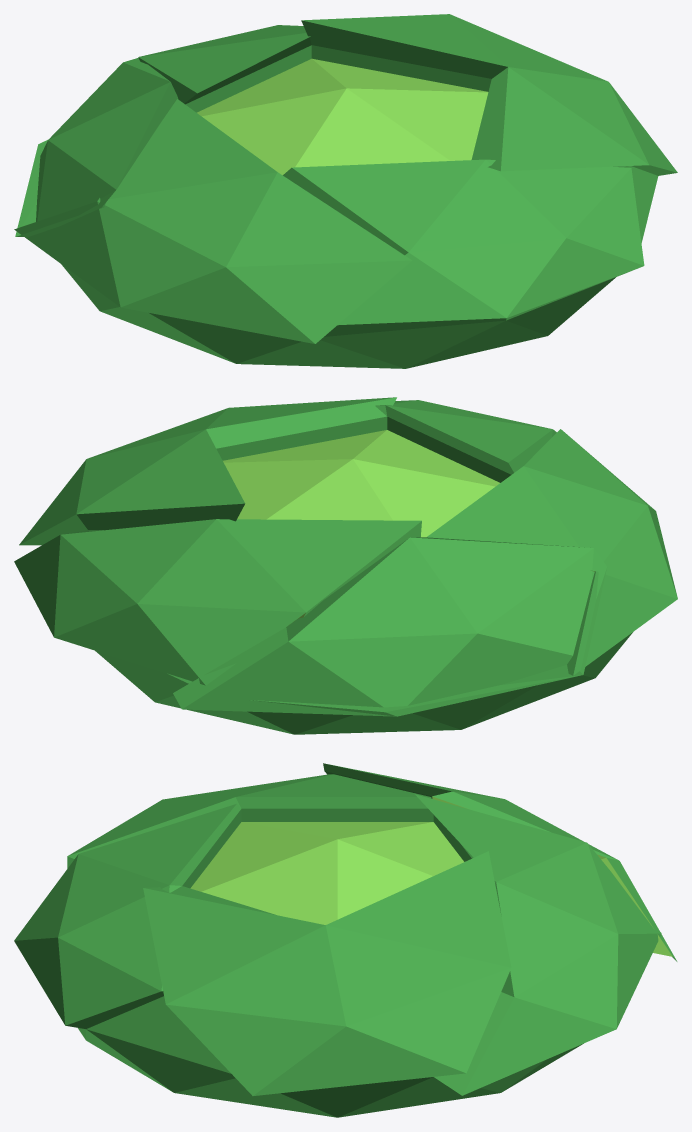
The model's file is lettuce_ready.glb.
The picture shows the model from 3 angles, top to bottom: view 1: azimuth 30°, elevation 25°; view 2: azimuth 150°, elevation 25°; view 3: azimuth 270°, elevation 25°; orthographic projection. The views are drawn at different scales.
Visible parts, largest first — view 1: Icosphere; view 2: Icosphere; view 3: Icosphere.
Boxes of the visible parts, x1,y1,x2,y2 form: Icosphere: (14,14,677,368); Icosphere: (14,397,677,734); Icosphere: (14,763,677,1117).
Bounding box in the file's own units: 0.9929 × 0.373 × 1.03.
